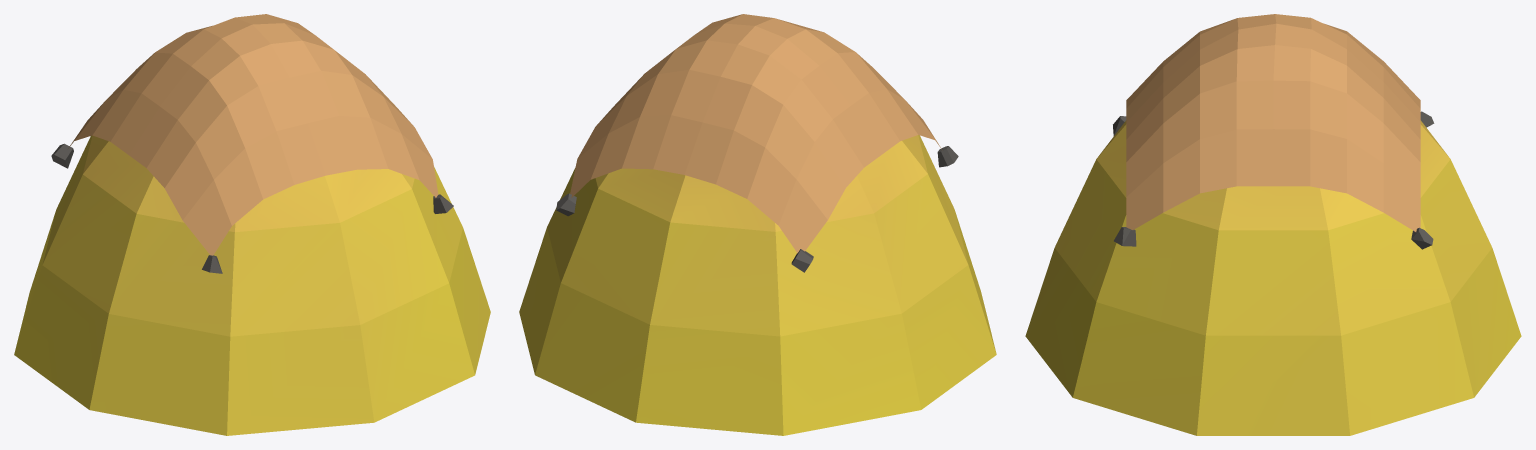
File: haystack_lowpoly.fbx
3 renders of one model, left to right at view 1: azimuth 30°, elevation 25°; view 2: azimuth 150°, elevation 25°; view 3: azimuth 270°, elevation 25°, orthographic.
Parts seen in each view (by area): view 1: hay, top; view 2: hay, top; view 3: hay, top.
Part boxes in pixels (box(x1,y1,x2,y2)): hay: box(14, 135, 490, 435); top: box(51, 14, 453, 273); hay: box(519, 135, 996, 435); top: box(556, 14, 958, 272); hay: box(1025, 120, 1521, 435); top: box(1113, 14, 1434, 249).
Bounding box in the file's own units: 190 × 139 × 200.
